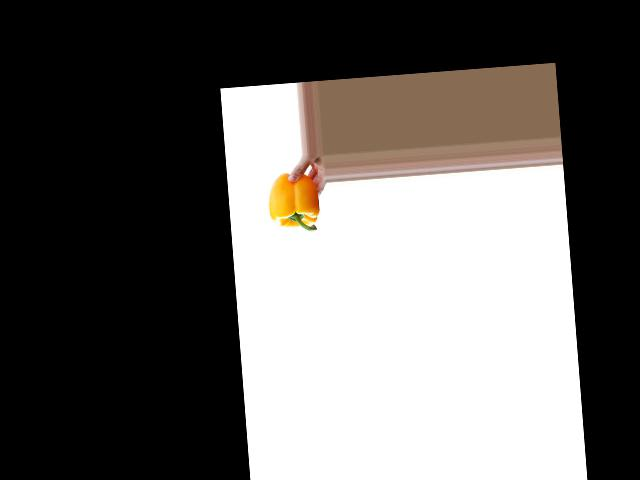bell_pepper: (265, 169, 321, 237)
